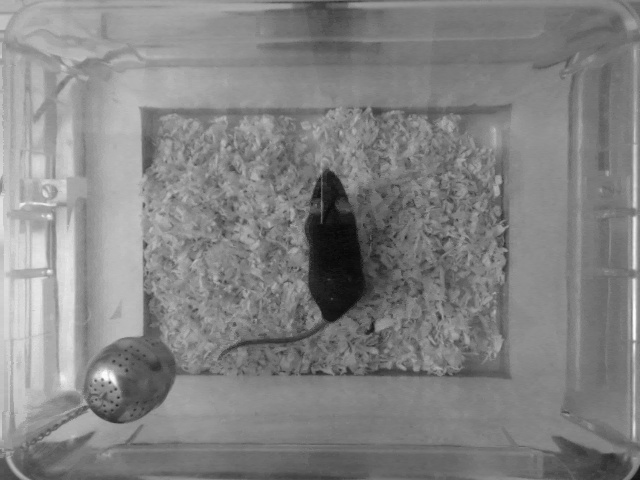mice: (215, 168, 368, 363)
